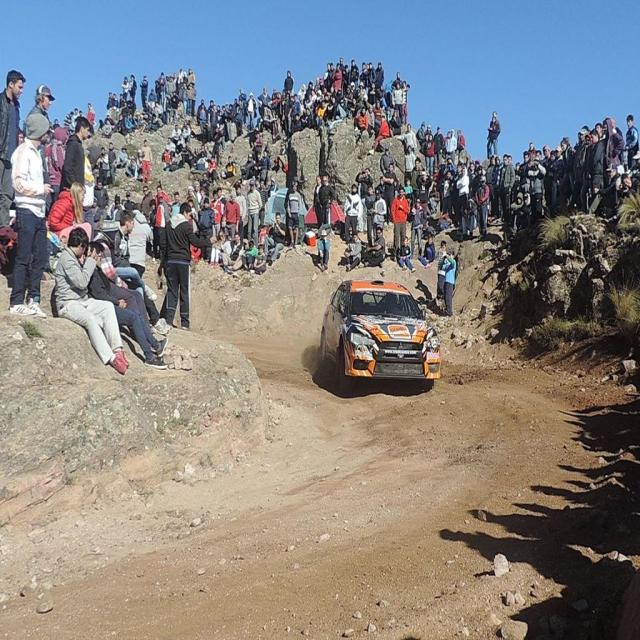car: (321, 277, 439, 391)
